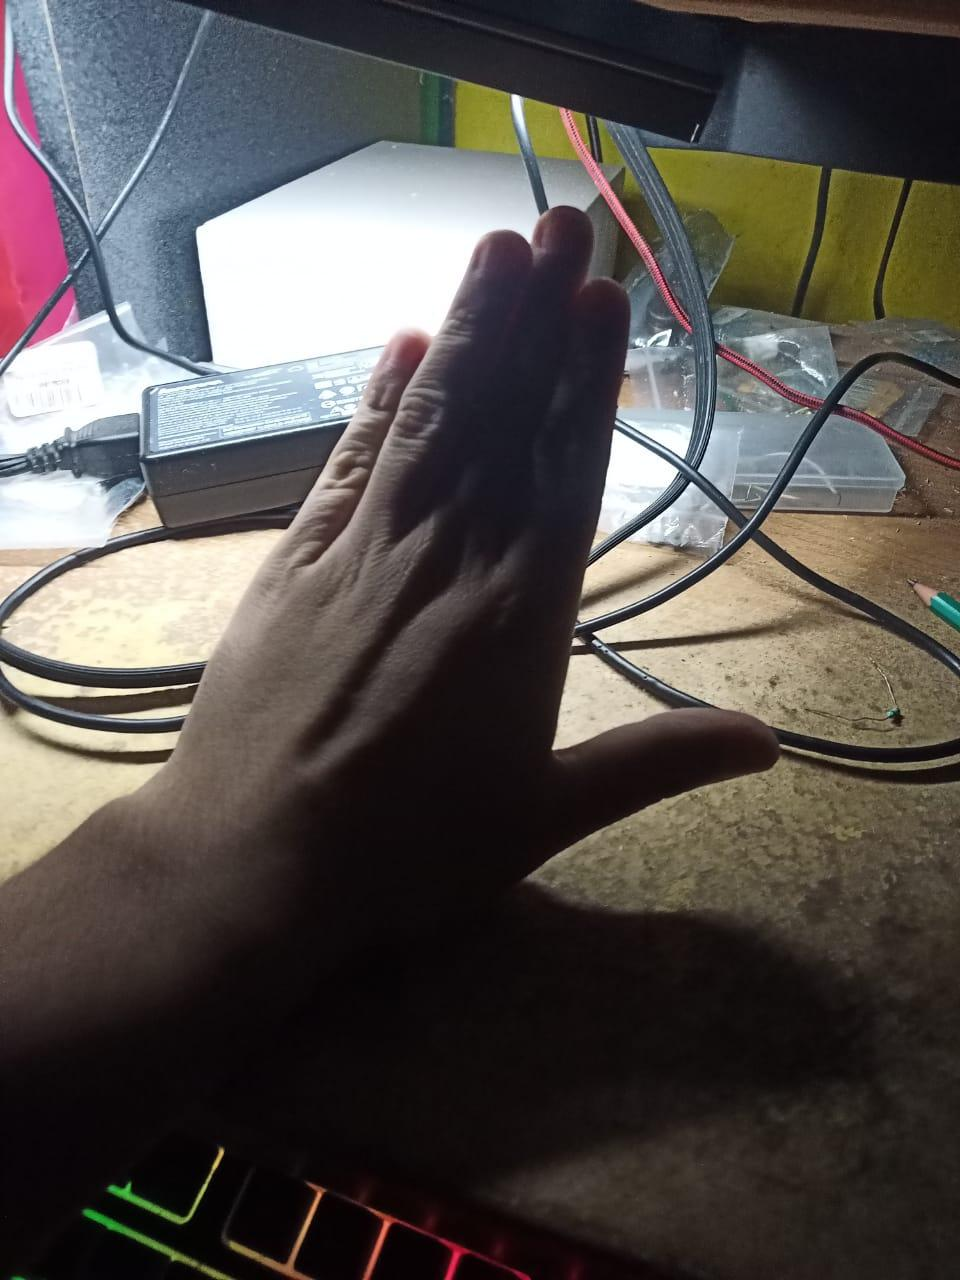Paper: (0, 207, 778, 1274)
